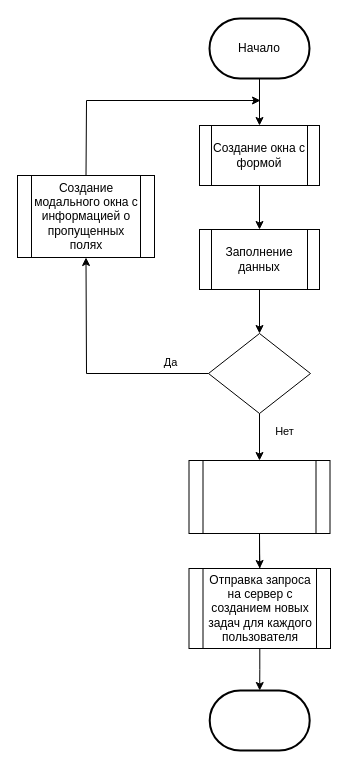
Image size: 348x768. Some labels were removed from this diagram. The shapes that lost their labels are listed below. From the top down, each one's centre as x and y in pixels, then its label:
(259,373): Некорректный ввод?
(259,497): Отправка запроса на сервер с добавлением нового проекта
(259,720): Конец
